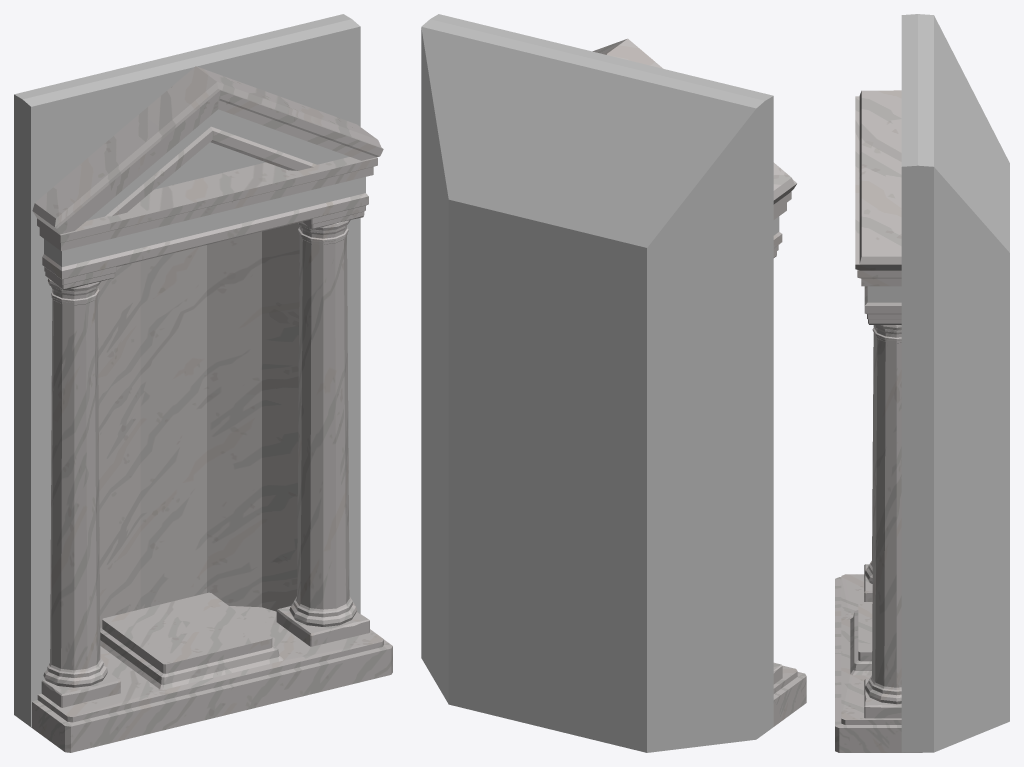
Rendered from SM_Bld_Wall_Alcove_Large_01.fbx.
3 views of the same model, side by side, from view 1: azimuth 30°, elevation 25°; view 2: azimuth 150°, elevation 25°; view 3: azimuth 270°, elevation 25° (orthographic). The views are drawn at different scales.
Visible parts, largest first — view 1: SM_Bld_Wall_Alcove_Large_01; view 2: SM_Bld_Wall_Alcove_Large_01; view 3: SM_Bld_Wall_Alcove_Large_01.
Part boxes in pixels (x1,y1,x2,y2): SM_Bld_Wall_Alcove_Large_01: [14, 14, 392, 752]; SM_Bld_Wall_Alcove_Large_01: [421, 14, 806, 752]; SM_Bld_Wall_Alcove_Large_01: [835, 14, 1009, 752].
Size of the model in its own units: 250 by 451 by 122.
